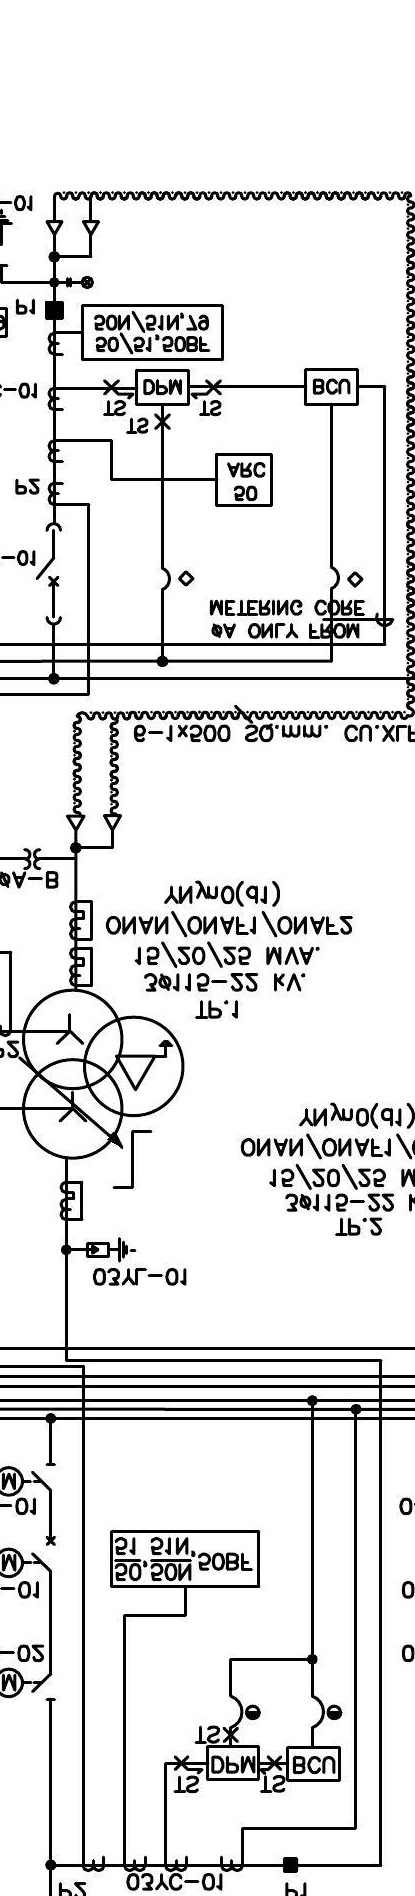11522_tx_ynyn0d1: (21, 988, 186, 1161)
115_breaker: (30, 1536, 57, 1572)
115_la: (85, 1237, 137, 1264)
22_breaker: (35, 521, 63, 626)
22_ll: (65, 276, 94, 290)
BCU: (304, 368, 359, 406), (286, 1746, 341, 1782)
DPM: (134, 368, 189, 406), (206, 1745, 260, 1781)
terminator_double: (45, 219, 100, 259), (65, 814, 122, 850)
